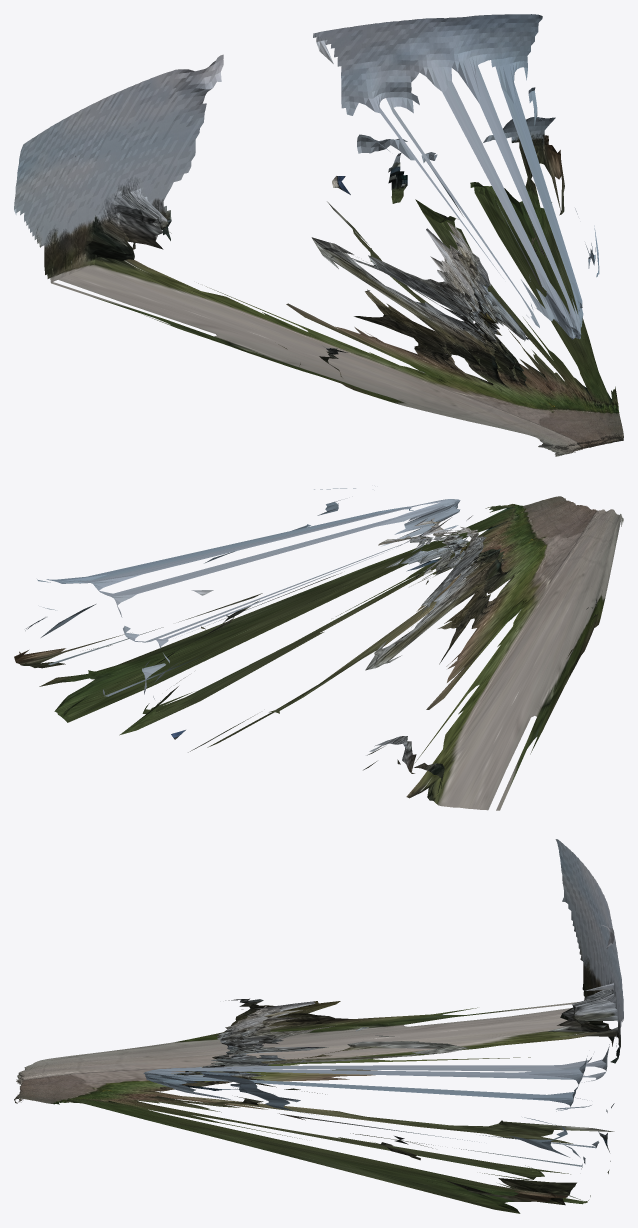
3 views of the same model, one above another, from view 1: azimuth 30°, elevation 25°; view 2: azimuth 150°, elevation 25°; view 3: azimuth 270°, elevation 25° (orthographic). The views are drawn at different scales.
Visible parts, largest first — view 1: defaultobject; view 2: defaultobject; view 3: defaultobject.
Boxes of the visible parts, x1,y1,x2,y2 form: defaultobject: (14,14,623,456); defaultobject: (14,488,623,810); defaultobject: (14,839,623,1213).
Bounding box in the file's own units: 40.73 × 13.49 × 44.23.
Materials: 1 (1 with a texture image).
